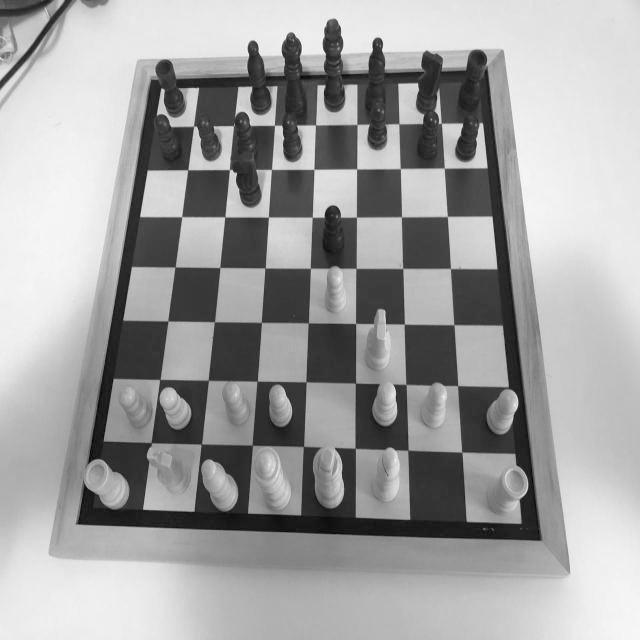chess-table-corners: (522, 516, 554, 554), (471, 53, 496, 78), (64, 508, 88, 534), (143, 69, 161, 91)
